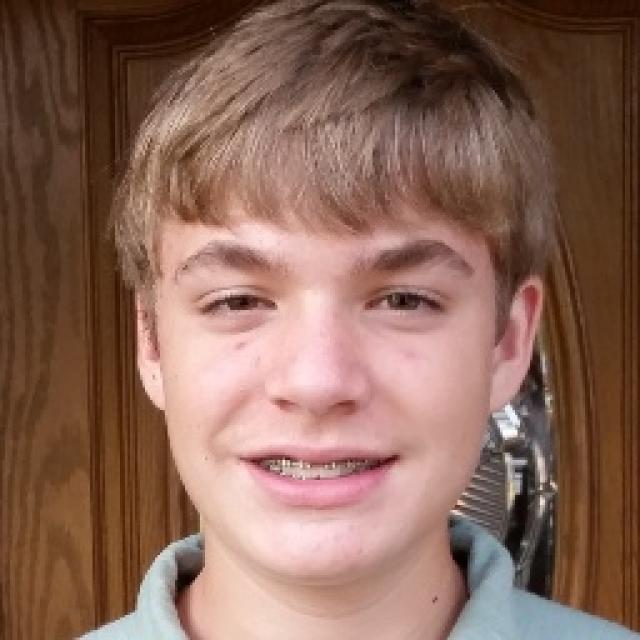earlobe: (486, 275, 544, 414), (135, 284, 163, 410)
